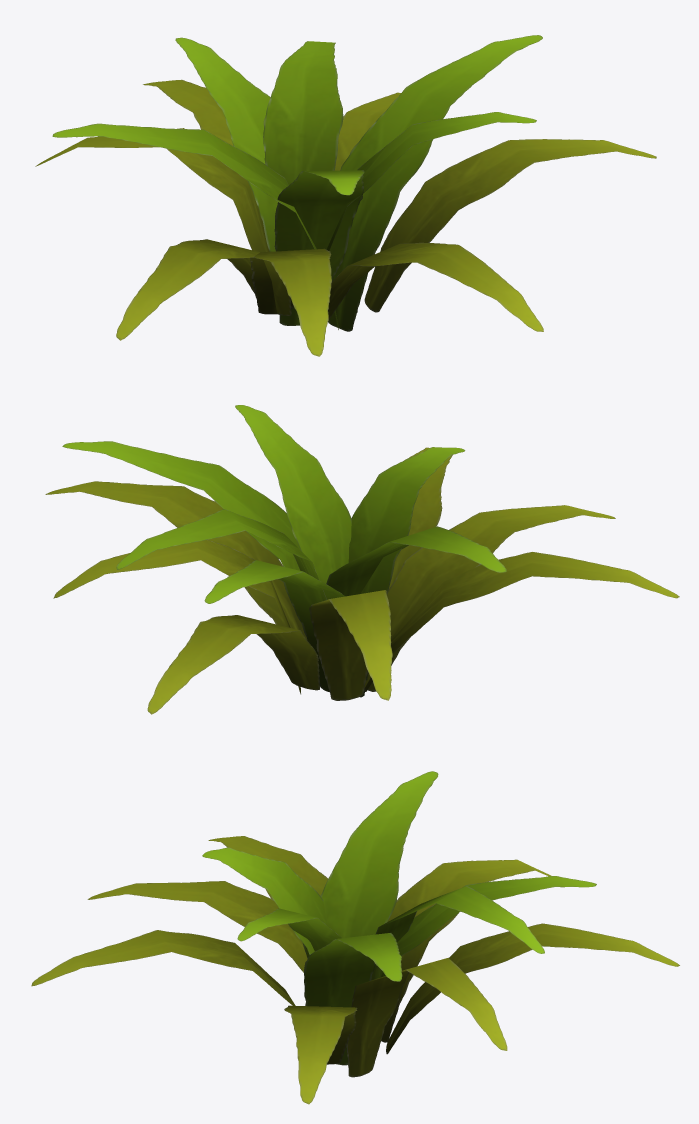
The model's file is Bush.fbx.
The picture shows the model from 3 angles, top to bottom: view 1: azimuth 30°, elevation 25°; view 2: azimuth 150°, elevation 25°; view 3: azimuth 270°, elevation 25°; orthographic projection. The views are drawn at different scales.
Visible parts, largest first — view 1: Bush1; view 2: Bush1; view 3: Bush1.
Part boxes in pixels (x1,y1,x2,y2): Bush1: [35, 35, 656, 356]; Bush1: [45, 405, 679, 714]; Bush1: [31, 771, 679, 1104].
Bounding box in the file's own units: 0.9012 × 0.3055 × 0.9132.
